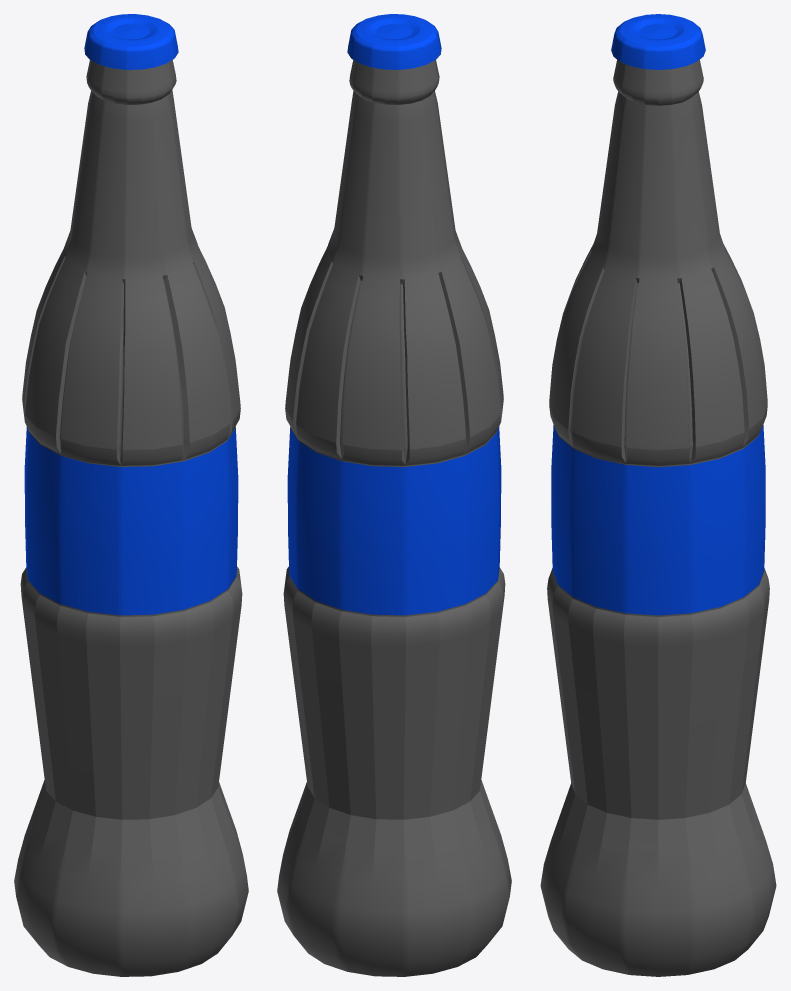
File: blueBottleUnreal.fbx
3 views of the same model, side by side, from view 1: azimuth 30°, elevation 25°; view 2: azimuth 150°, elevation 25°; view 3: azimuth 270°, elevation 25° (orthographic).
Visible parts, largest first — view 1: pCylinder1; view 2: pCylinder1; view 3: pCylinder1.
Boxes of the visible parts, box(x1,y1,x2,y2) form: pCylinder1: box(14, 14, 248, 976); pCylinder1: box(277, 14, 511, 976); pCylinder1: box(540, 14, 776, 976).
Size of the model in its own units: 2.38 by 10.09 by 2.38.
